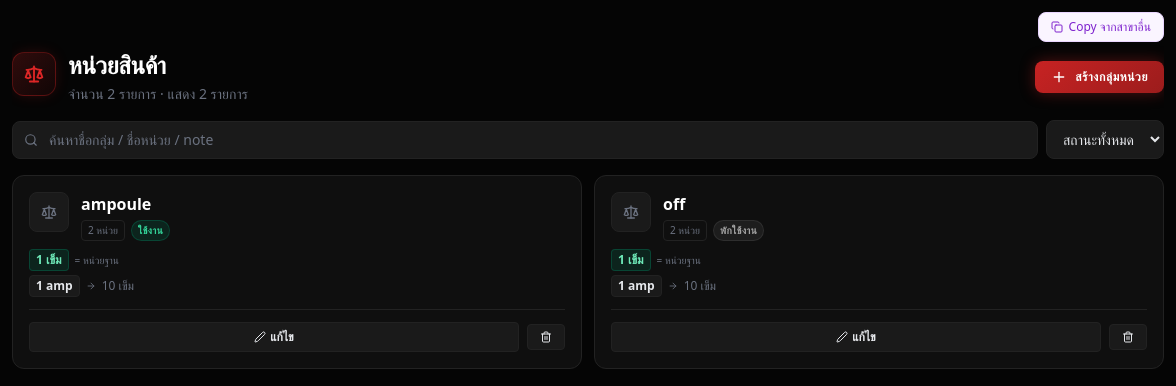
it: ProductUnitsTab — PUT1..PUT8 › PUT4: status filter hides พักใช้งาน
The image size is (1176, 386).
Expected: the heading "ampoule" is shown, [81,193,151,215]
Select "ใช้งาน" in the dropdown showing "สถานะทั้งหมด" at (1105, 140), box [1046,120,1164,159]
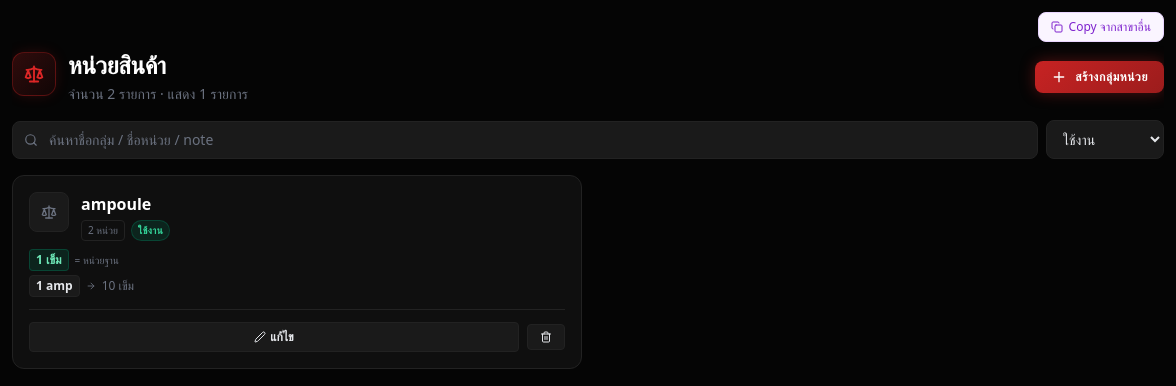
Expected: the heading "ampoule" is shown, [81,193,151,215]
Now the heading "off" is gone
